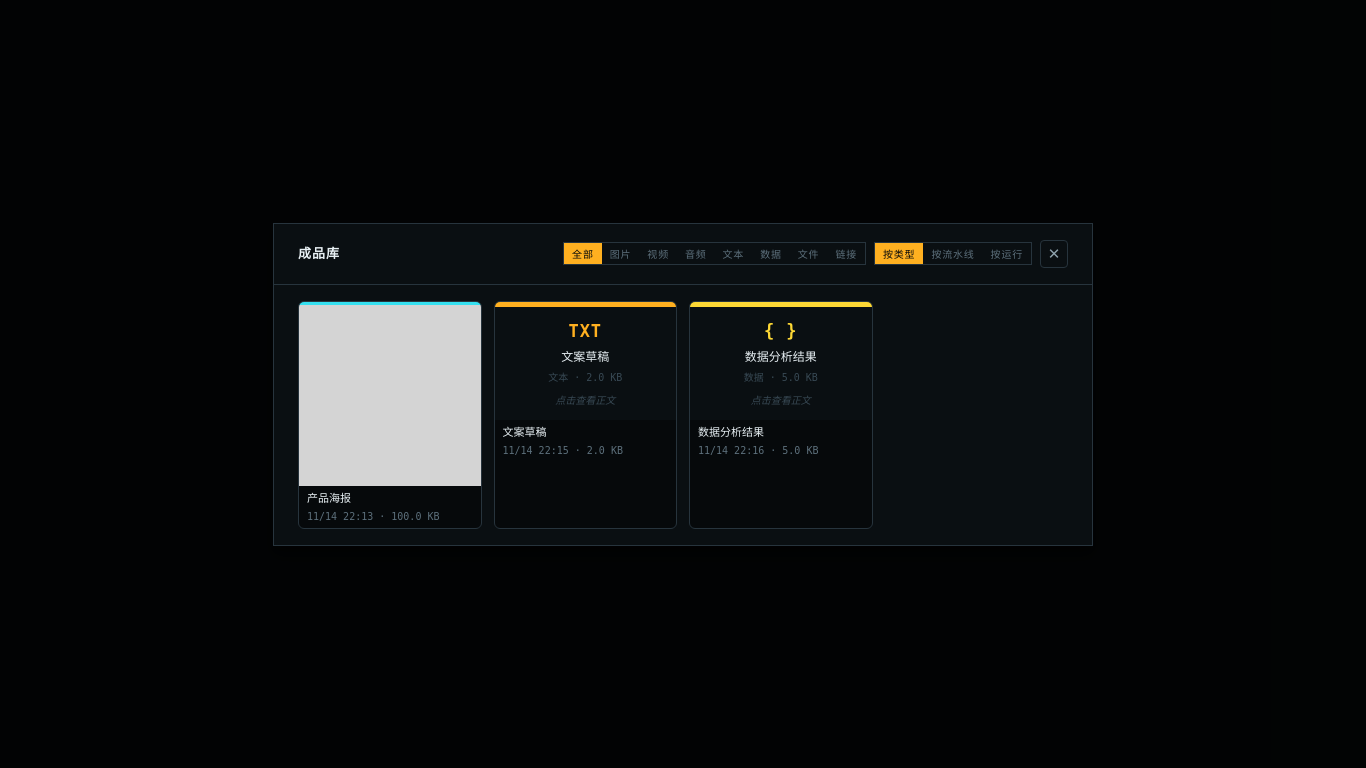
ProductGallery › 类型过滤 › 点击'文本'过滤器只显示 text kind 的 artifact
Expected: the text "产品海报" is shown, [307,490,351,505]
What coordinates should you click on to do the following:
click the button "文本"
I would click on:
 (733, 254)
Its box is [714,243,752,264].
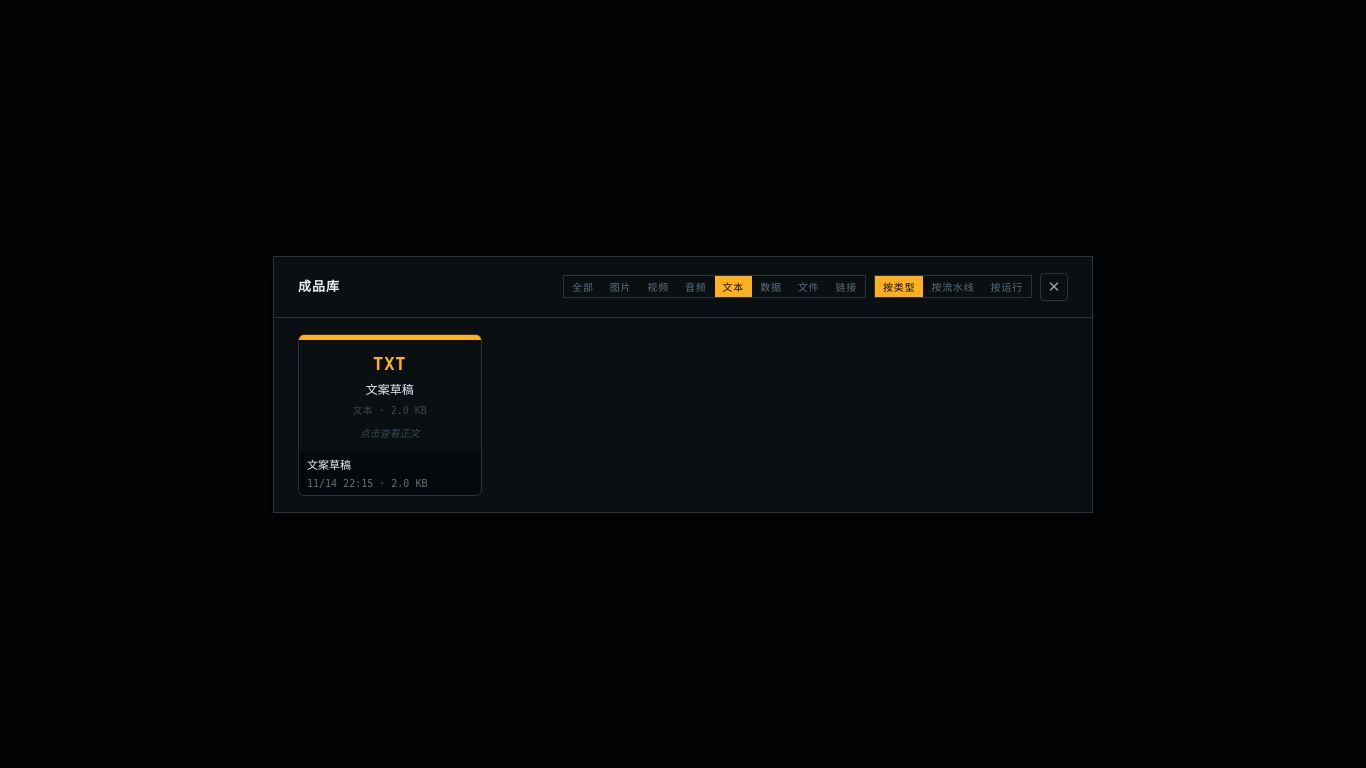
Expected: the 1st text "文案草稿" is shown, [366,381,414,399]
Expected: the button "产品海报" is gone
